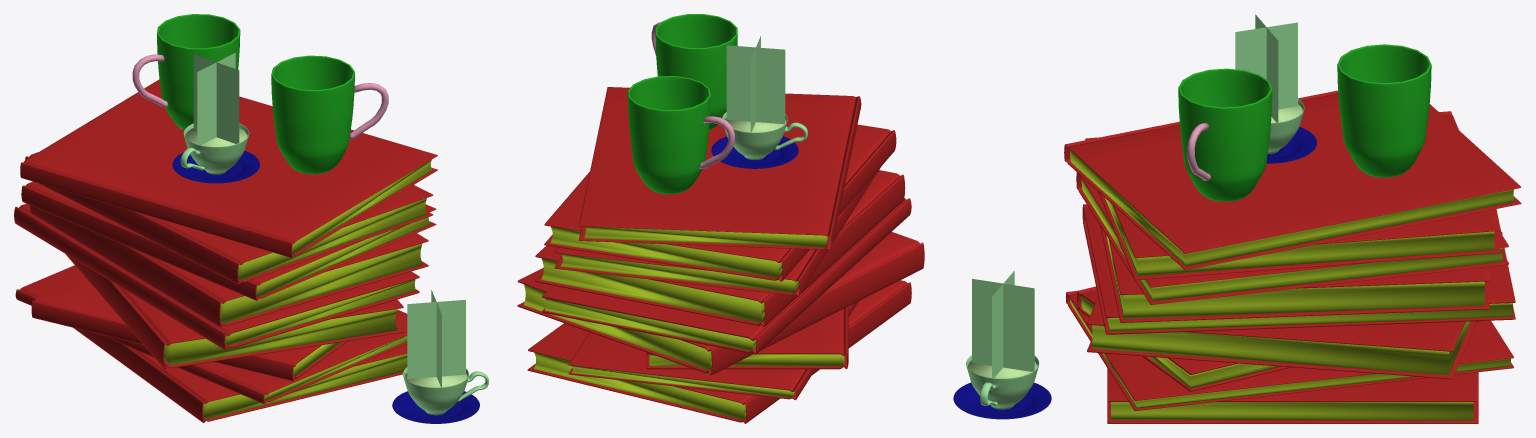
Rendered from Book_And_Coffe_Cup.obj.
The picture shows the model from 3 angles, left to right: view 1: azimuth 30°, elevation 25°; view 2: azimuth 150°, elevation 25°; view 3: azimuth 270°, elevation 25°; orthographic projection. The views are drawn at different scales.
Visible parts, largest first — view 1: Line010, Line450, Line003, Line007, Line009, Line006, Line439, Line008, Line002, Line005, Line004, Box004 (+20 smaller); view 2: Line010, Line439, Line003, Line005, Line009, Line007, Line450, Line004, Line002, Box006, Plane029, Box008 (+14 smaller); view 3: Line010, Line439, Line450, Box004, Box006, Line002, Line005, Box003, Box008, Line004, Box009, Box007 (+18 smaller).
Boxes of the visible parts, x1,y1,x2,y2 form: Line010: (20,79,437,258); Line450: (271,55,354,174); Line003: (14,203,419,350); Line007: (29,205,428,327); Line009: (25,152,433,284); Line006: (31,268,347,381); Line439: (156,14,240,130); Line008: (21,181,436,300); Line002: (15,265,407,404); Line005: (65,254,403,369); Line004: (73,327,407,422); Box004: (164,309,397,365); Line010: (579,87,861,250); Line439: (627,76,710,194); Line003: (542,198,911,354); Line005: (517,232,924,375); Line009: (544,124,896,281); Line007: (535,170,905,326); Line450: (655,14,737,129); Line004: (527,280,911,423); Line002: (568,301,858,400); Box006: (541,258,764,322); Plane029: (726,45,785,124); Box008: (550,226,782,277); Line010: (1064,90,1521,269); Line439: (1337,44,1431,177); Line450: (1178,68,1272,201); Box004: (1092,321,1470,375); Box006: (1106,236,1484,318); Line002: (1066,290,1513,410); Line005: (1087,231,1502,379); Box003: (1111,402,1473,420); Box008: (1105,198,1494,276); Line004: (1107,368,1478,423); Box009: (1070,150,1514,266); Box007: (1081,179,1502,301).
Size of the model in its own units: 15.64 by 13.32 by 21.18.
